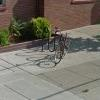Bicycle: (44, 22, 78, 66)
